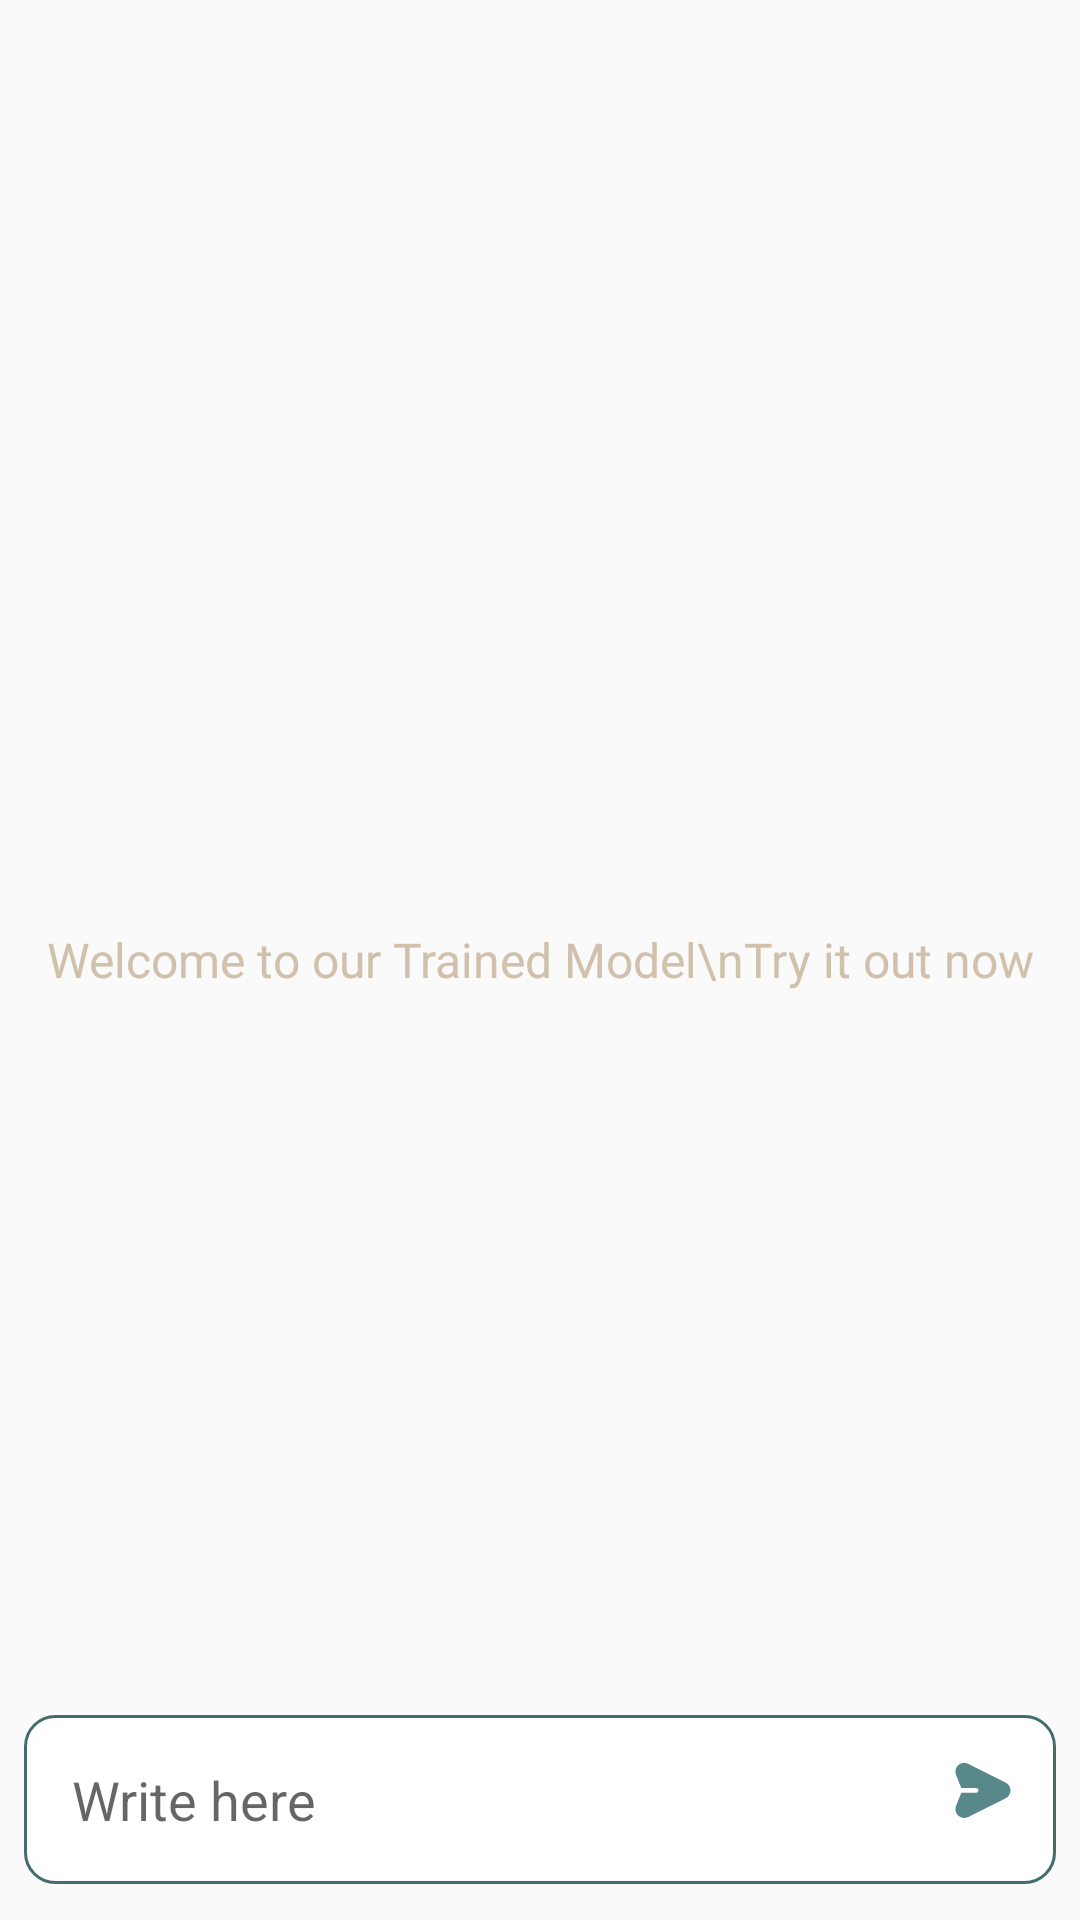

Screen size 1080×1920. Icon name, then its box in pixels as rect(x1, y1, x2, y2):
noun send: rect(955, 1762, 1011, 1818)
